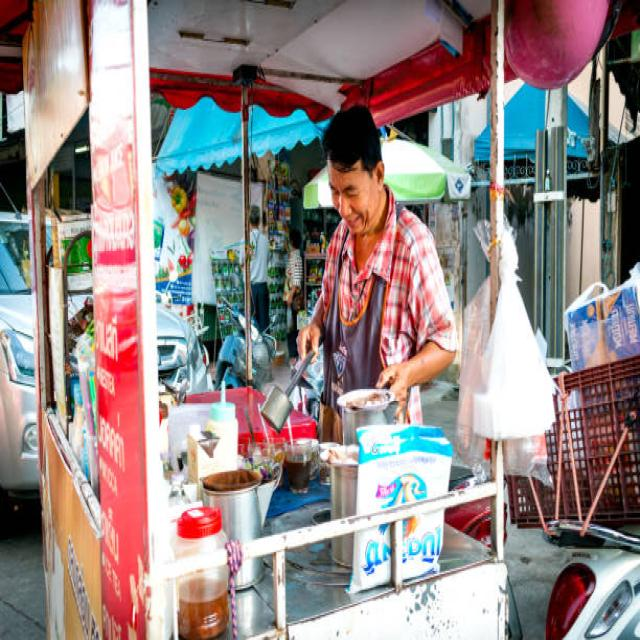Emperan: (19, 0, 568, 640)
